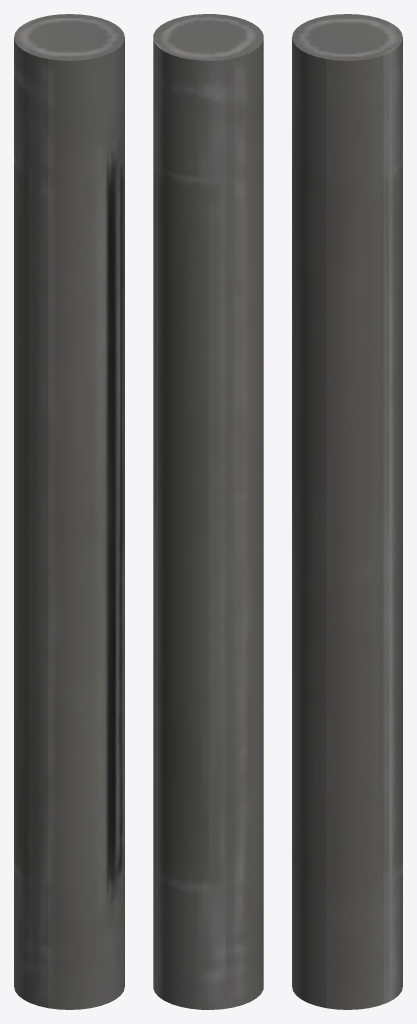
Rendered from backrest__back_hinge_barrel.glb.
3 renders of one model, left to right at view 1: azimuth 90°, elevation 25°; view 2: azimuth 150°, elevation 25°; view 3: azimuth 270°, elevation 25°, orthographic.
Visible parts, largest first — view 1: world; view 2: world; view 3: world.
Boxes of the visible parts, bbox=[...] form: world: bbox=[14, 14, 124, 1009]; world: bbox=[153, 14, 263, 1009]; world: bbox=[292, 14, 402, 1009].
Bounding box in the file's own units: 0.036 × 0.34 × 0.036.
1 material, 1 textured.
